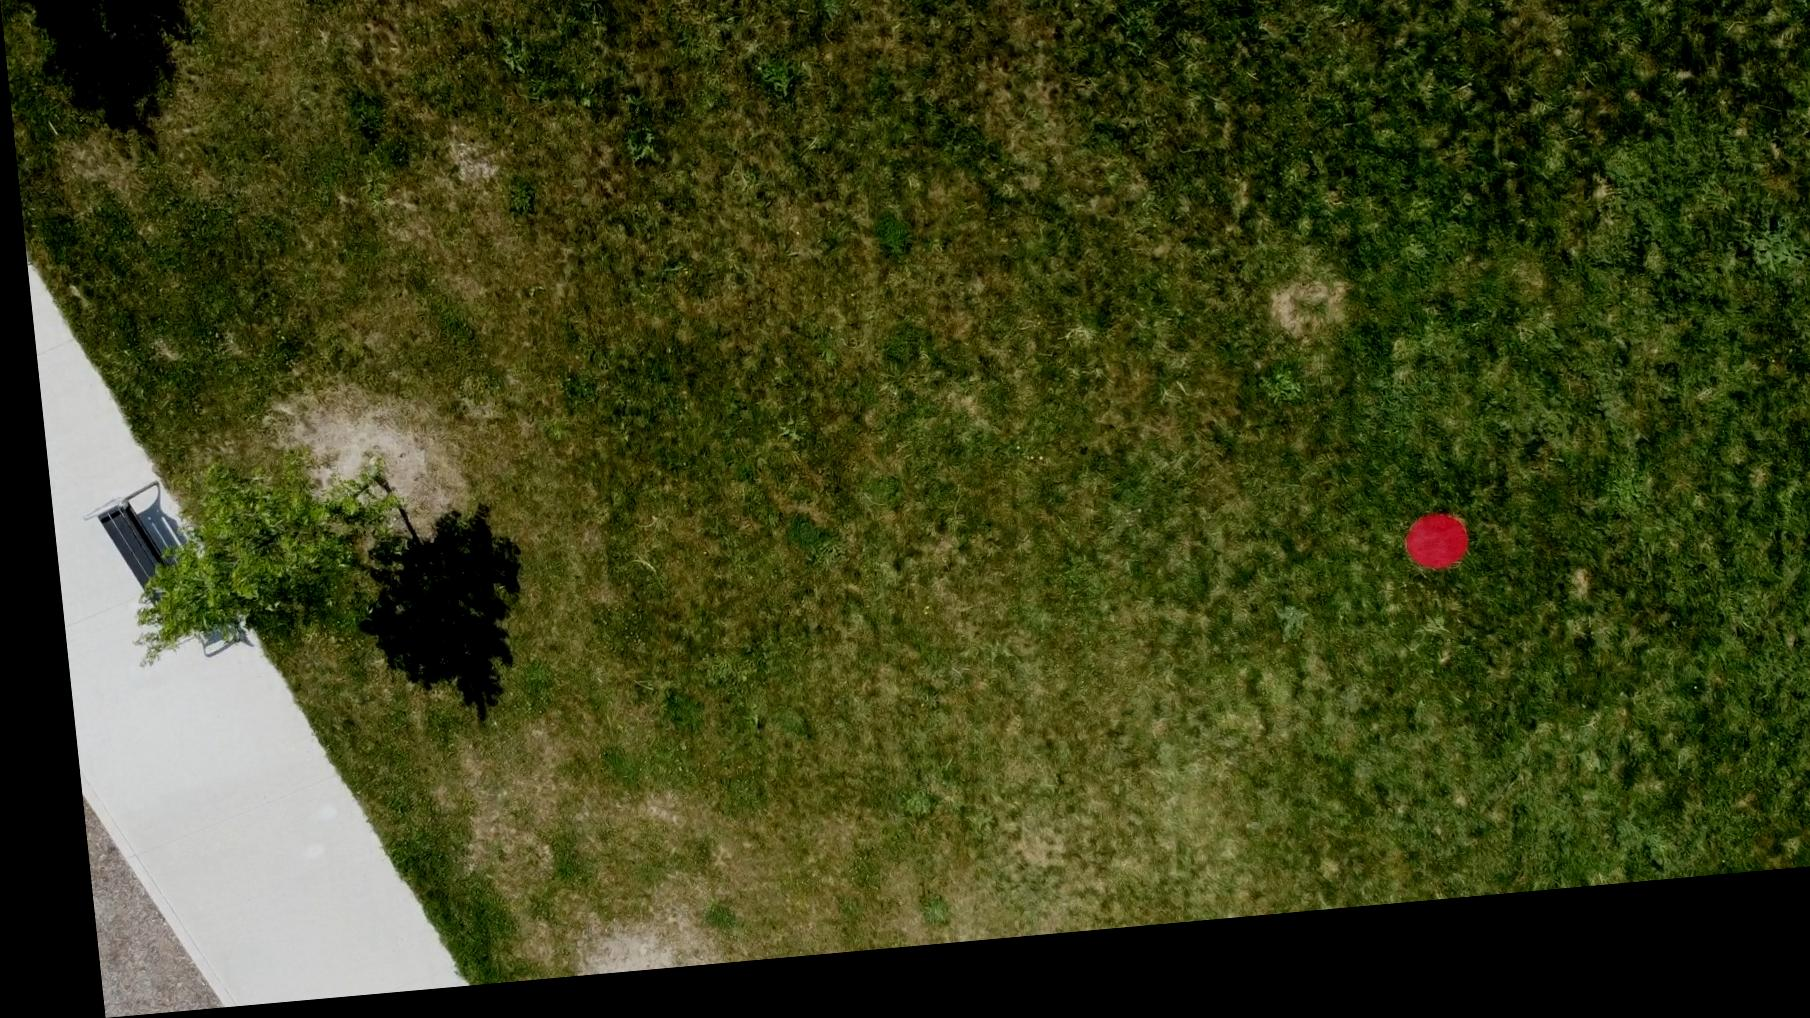Red: (1386, 533, 1461, 600)
